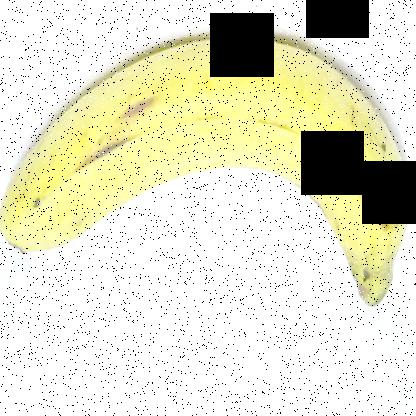freshripe: (0, 18, 415, 321)
